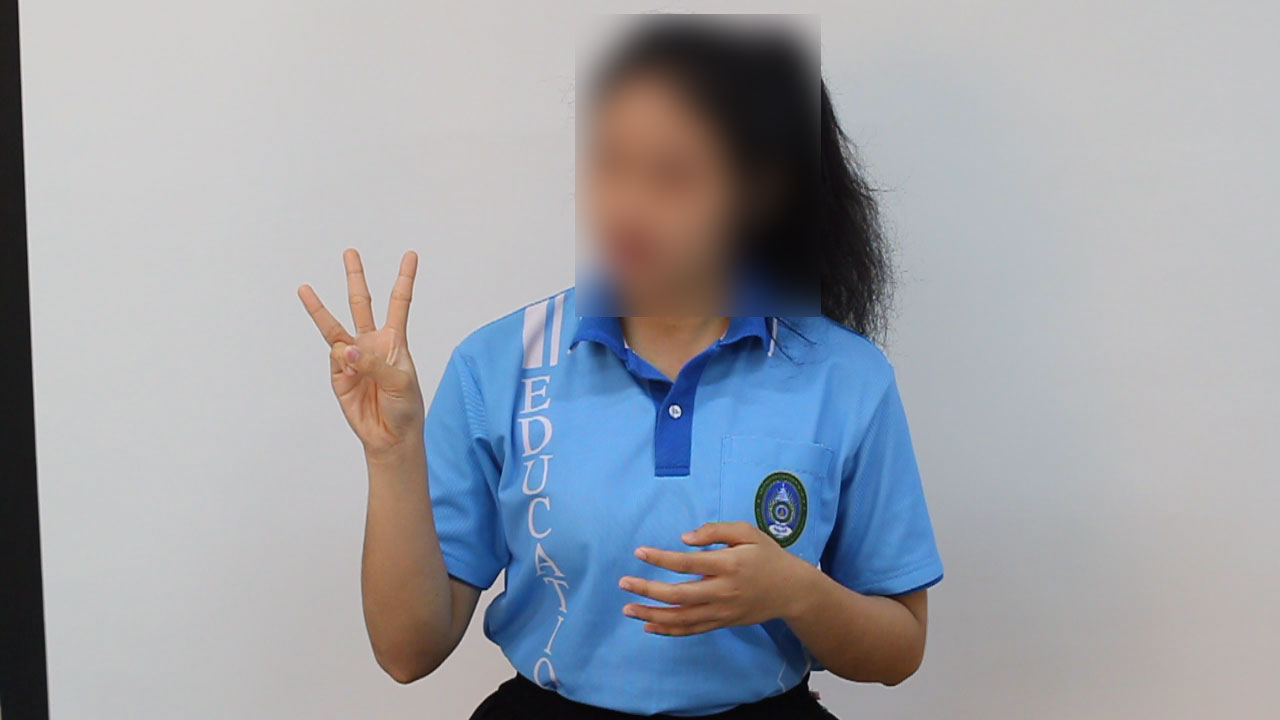wor: (291, 236, 440, 466)
